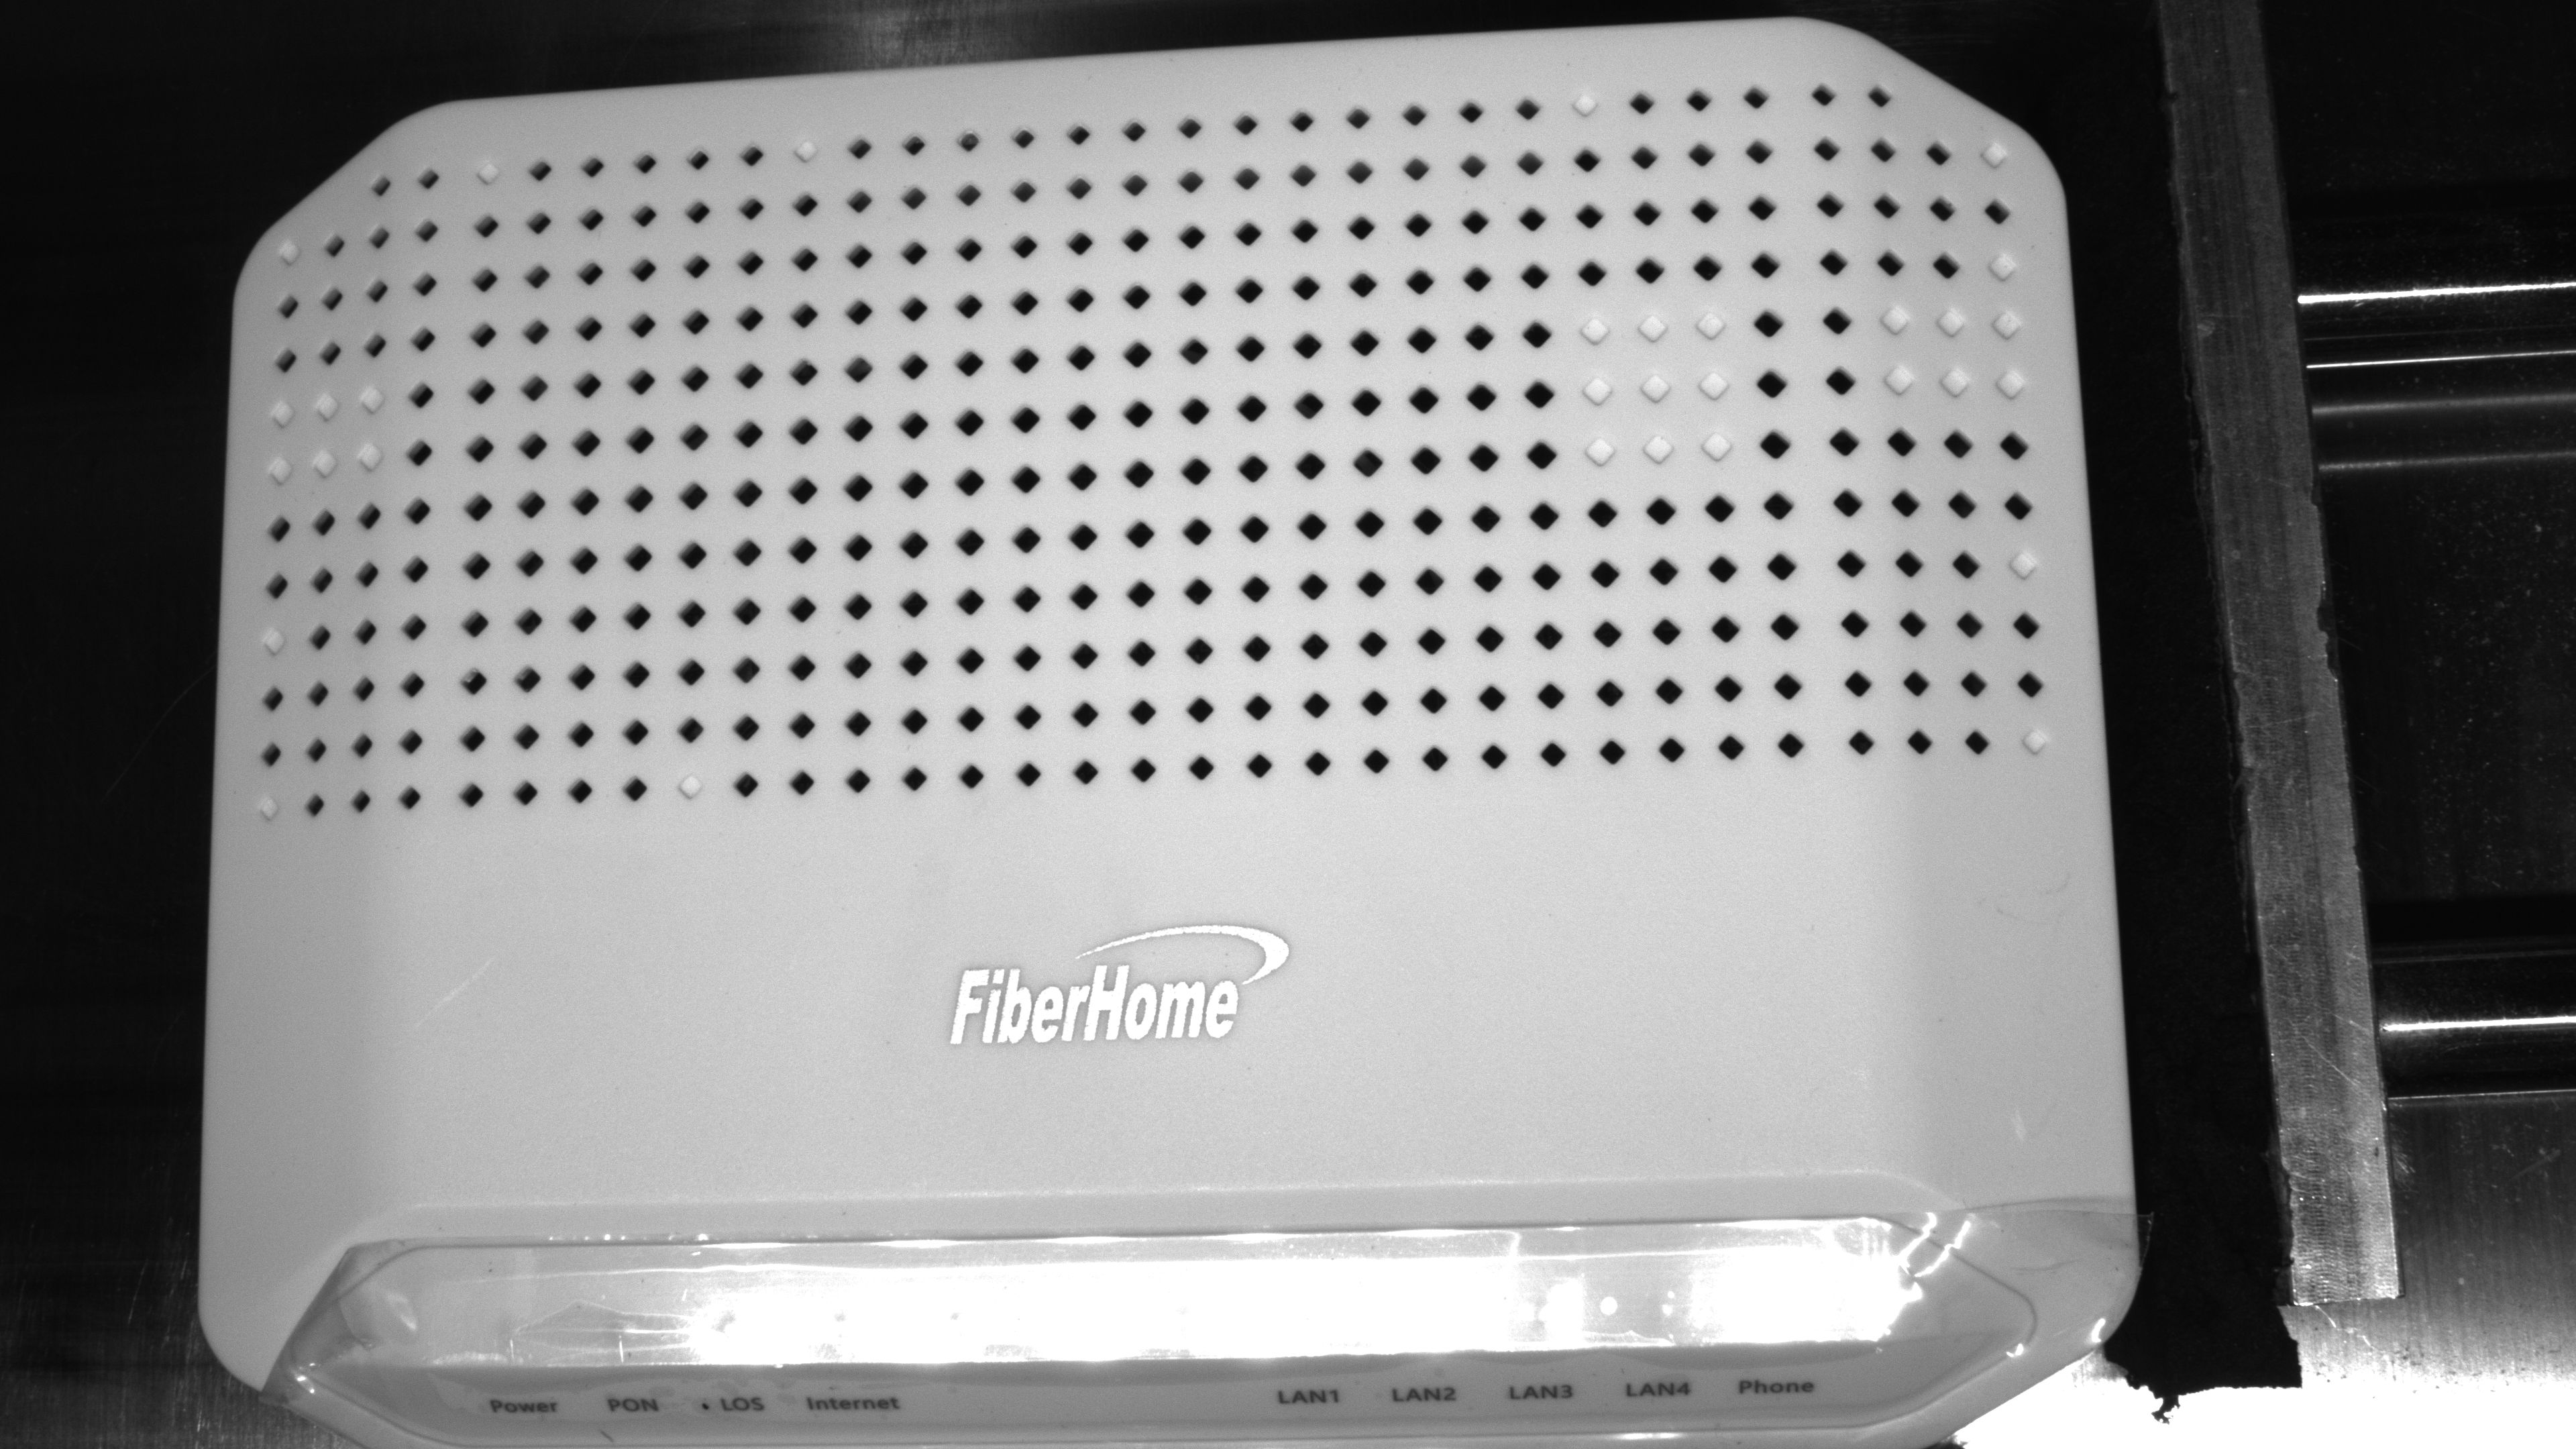AI_FiberHome: (869, 879, 1387, 1099)
